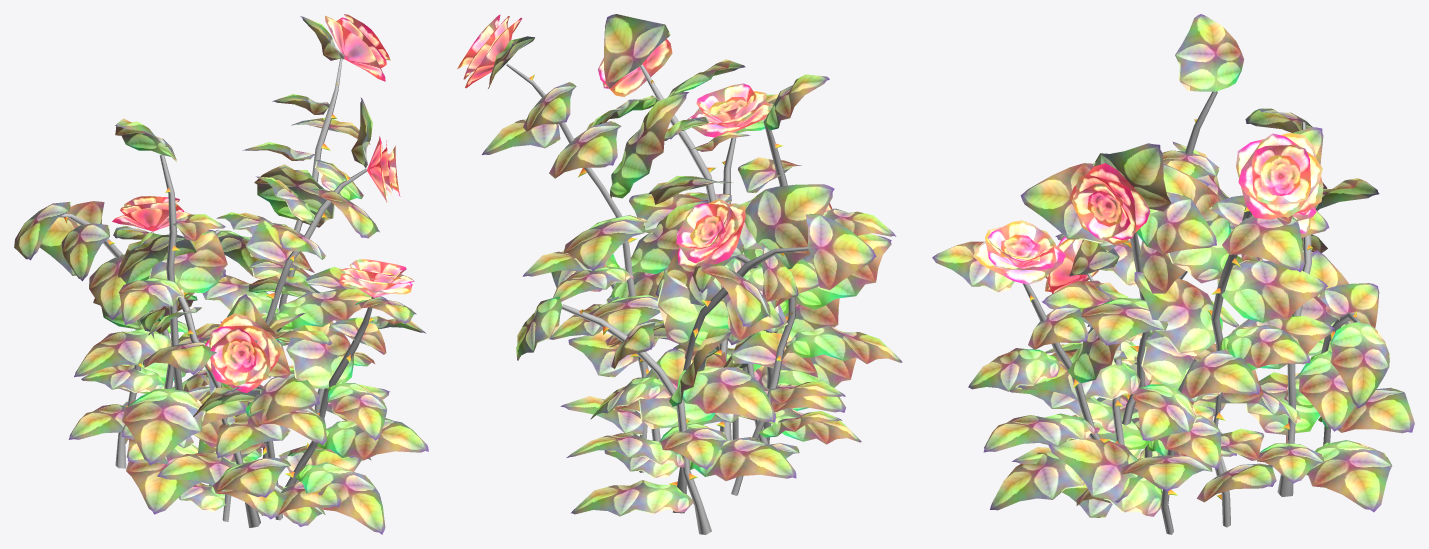
Rendered from rose_bush_03_SM.fbx.
3 views of the same model, side by side, from view 1: azimuth 30°, elevation 25°; view 2: azimuth 150°, elevation 25°; view 3: azimuth 270°, elevation 25° (orthographic). The views are drawn at different scales.
Parts seen in each view (by area): view 1: rose_bush_03_SM_LOD0; view 2: rose_bush_03_SM_LOD0; view 3: rose_bush_03_SM_LOD0.
Part boxes in pixels (x1,y1,x2,y2): rose_bush_03_SM_LOD0: (14,14,428,534); rose_bush_03_SM_LOD0: (457,14,902,534); rose_bush_03_SM_LOD0: (932,14,1414,534).
Size of the model in its own units: 181 by 192 by 196.
Materials: 3 (2 with a texture image).
